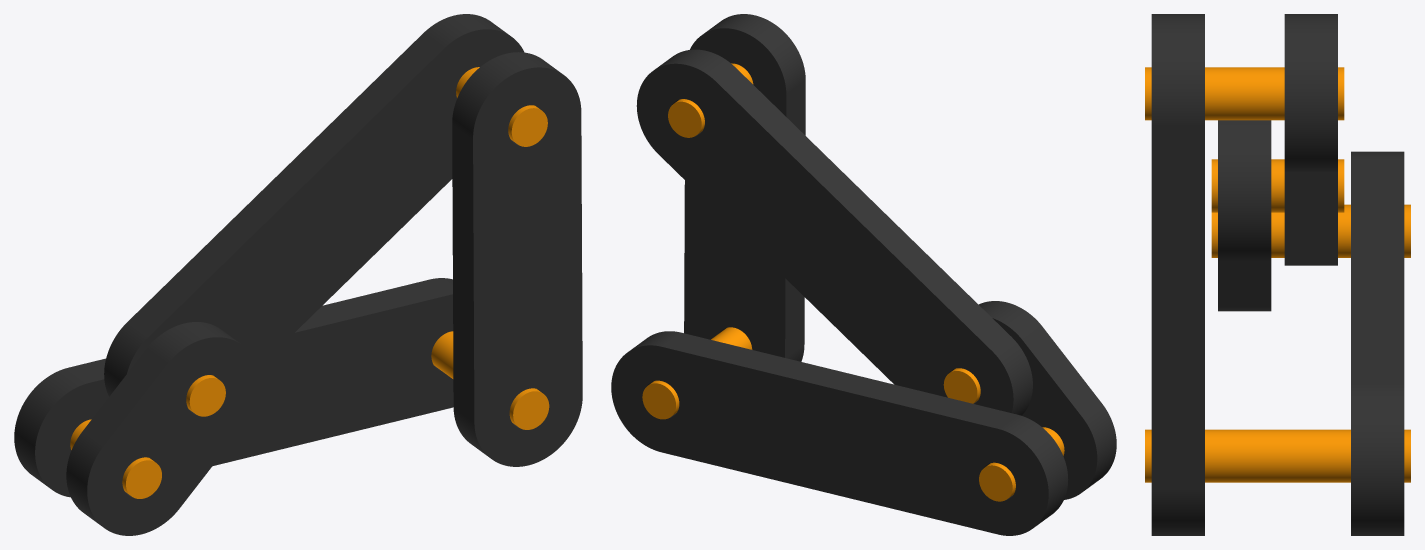
The model's file is assembly.glb.
3 renders of one model, left to right at view 1: azimuth 30°, elevation 25°; view 2: azimuth 150°, elevation 25°; view 3: azimuth 270°, elevation 25°, orthographic. The views are drawn at different scales.
Visible parts, largest first — view 1: coupler/linkage-52x12/body, rocker/linkage-42x12/body, ground/linkage-52x12/body, crank/linkage-22x12/body, pin-d/shaft-d4x20/body, pin-c/shaft-d4x15/body, pin-a/shaft-d4x15/body, pin-b/shaft-d4x10/body; view 2: ground/linkage-52x12/body, coupler/linkage-52x12/body, rocker/linkage-42x12/body, crank/linkage-22x12/body, pin-d/shaft-d4x20/body, pin-a/shaft-d4x15/body, pin-c/shaft-d4x15/body, pin-b/shaft-d4x10/body; view 3: rocker/linkage-42x12/body, ground/linkage-52x12/body, coupler/linkage-52x12/body, crank/linkage-22x12/body, pin-d/shaft-d4x20/body, pin-c/shaft-d4x15/body, pin-a/shaft-d4x15/body, pin-b/shaft-d4x10/body.
Part boxes in pixels (bbox=[...]): coupler/linkage-52x12/body: bbox=[104, 14, 524, 396]; rocker/linkage-42x12/body: bbox=[452, 52, 582, 466]; ground/linkage-52x12/body: bbox=[14, 278, 453, 497]; crank/linkage-22x12/body: bbox=[66, 322, 259, 535]; pin-d/shaft-d4x20/body: bbox=[431, 331, 549, 429]; pin-c/shaft-d4x15/body: bbox=[456, 67, 547, 146]; pin-a/shaft-d4x15/body: bbox=[70, 419, 161, 498]; pin-b/shaft-d4x10/body: bbox=[186, 375, 225, 416]; ground/linkage-52x12/body: bbox=[611, 331, 1068, 535]; coupler/linkage-52x12/body: bbox=[636, 49, 1032, 415]; rocker/linkage-42x12/body: bbox=[684, 14, 805, 361]; crank/linkage-22x12/body: bbox=[978, 301, 1116, 499]; pin-d/shaft-d4x20/body: bbox=[642, 327, 752, 419]; pin-a/shaft-d4x15/body: bbox=[979, 427, 1064, 501]; pin-c/shaft-d4x15/body: bbox=[668, 63, 753, 137]; pin-b/shaft-d4x10/body: bbox=[943, 368, 980, 403]; rocker/linkage-42x12/body: bbox=[1151, 14, 1204, 535]; ground/linkage-52x12/body: bbox=[1351, 151, 1404, 535]; coupler/linkage-52x12/body: bbox=[1284, 14, 1337, 265]; crank/linkage-22x12/body: bbox=[1218, 120, 1271, 311]; pin-d/shaft-d4x20/body: bbox=[1145, 429, 1410, 482]; pin-c/shaft-d4x15/body: bbox=[1145, 67, 1344, 120]; pin-a/shaft-d4x15/body: bbox=[1211, 204, 1410, 257]; pin-b/shaft-d4x10/body: bbox=[1211, 159, 1344, 212].
Size of the model in its own units: 0.052 by 0.042 by 0.02.
